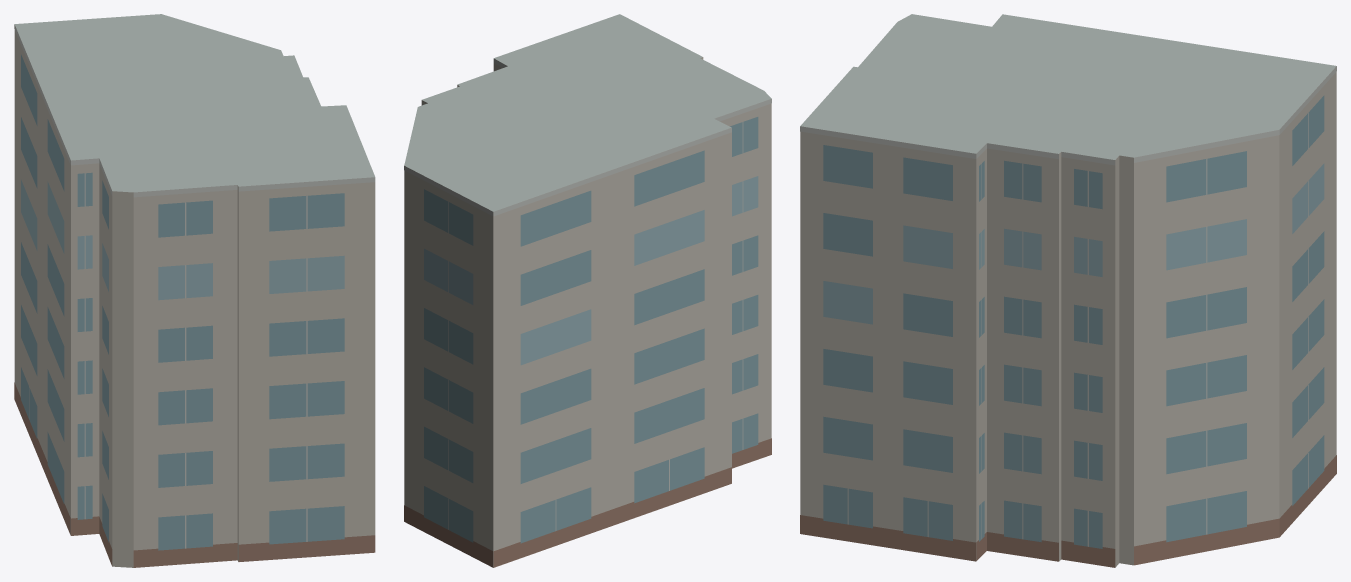
Rendered from survey-upis-32599705.glb.
3 renders of one model, left to right at view 1: azimuth 30°, elevation 25°; view 2: azimuth 150°, elevation 25°; view 3: azimuth 270°, elevation 25°, orthographic. The views are drawn at different scales.
Parts seen in each view (by area): view 1: survey-upis-32599705.tmp; view 2: survey-upis-32599705.tmp; view 3: survey-upis-32599705.tmp.
Part boxes in pixels (<box>): survey-upis-32599705.tmp: <box>14,14,375,567</box>; survey-upis-32599705.tmp: <box>404,14,771,567</box>; survey-upis-32599705.tmp: <box>800,14,1336,567</box>.
Size of the model in its own units: 14.23 by 18.5 by 22.08.
